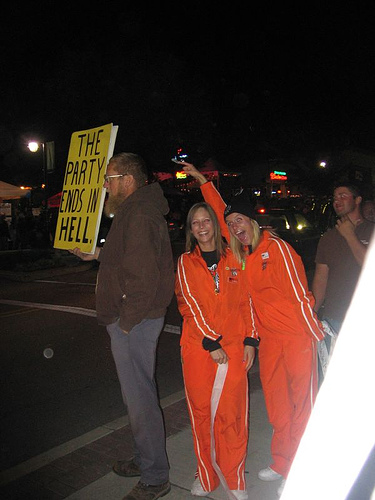without_mask: (100, 162, 137, 205), (187, 207, 220, 250), (224, 211, 262, 248), (330, 186, 364, 225)
